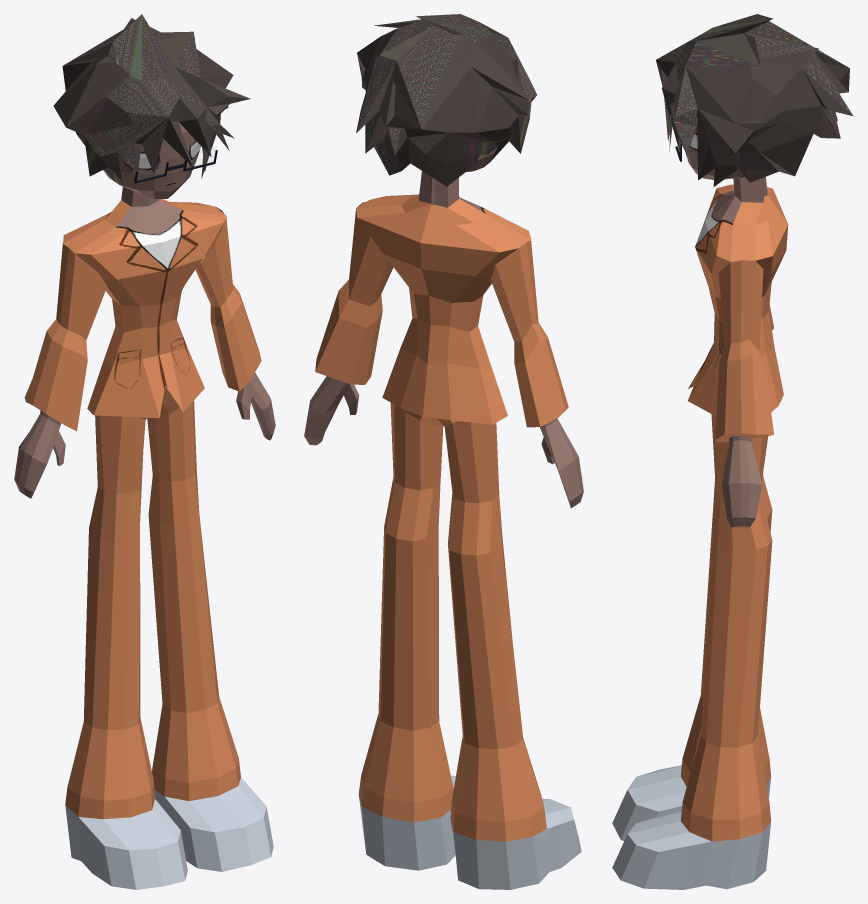
Rendered from Ramon.fbx.
3 renders of one model, left to right at view 1: azimuth 30°, elevation 25°; view 2: azimuth 150°, elevation 25°; view 3: azimuth 270°, elevation 25°, orthographic. The views are drawn at different scales.
Visible parts, largest first — view 1: Cylinder, Torso, Plane.001, Torso.001, Head; view 2: Cylinder, Torso, Plane.001, Torso.001; view 3: Cylinder, Plane.001, Torso.001, Torso, Head.
Boxes of the visible parts, x1=… form: Cylinder: x1=65, y1=385, x2=273, y2=889; Torso: x1=63, y1=186, x2=226, y2=418; Plane.001: x1=53, y1=14, x2=250, y2=182; Torso.001: x1=14, y1=206, x2=275, y2=498; Head: x1=103, y1=121, x2=206, y2=198; Cylinder: x1=358, y1=403, x2=581, y2=889; Torso: x1=356, y1=171, x2=531, y2=424; Plane.001: x1=356, y1=14, x2=536, y2=186; Torso.001: x1=304, y1=202, x2=583, y2=508; Cylinder: x1=612, y1=412, x2=772, y2=889; Plane.001: x1=656, y1=14, x2=853, y2=186; Torso.001: x1=715, y1=260, x2=774, y2=527; Torso: x1=688, y1=177, x2=788, y2=416; Head: x1=685, y1=123, x2=744, y2=179.
Size of the model in its own units: 147 by 445 by 116.
Materials: 7 (5 with a texture image).
